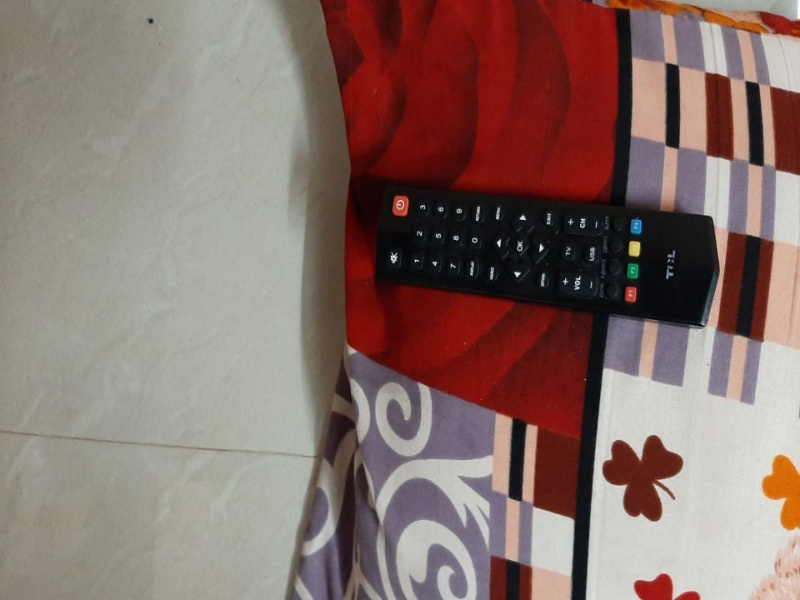remote: (375, 168, 735, 345)
